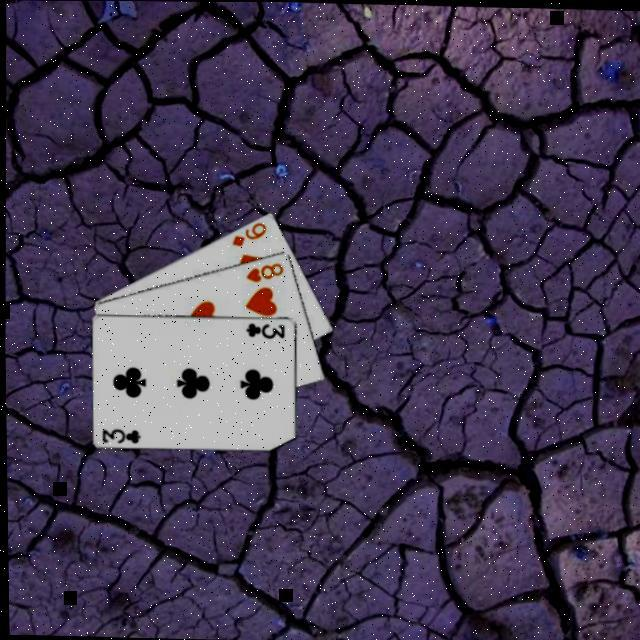3C: (244, 321, 288, 342), (100, 426, 143, 447)
8H: (243, 260, 286, 286)
9D: (229, 219, 270, 250)
